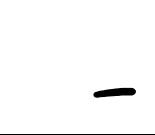minus: (93, 88, 135, 98)
